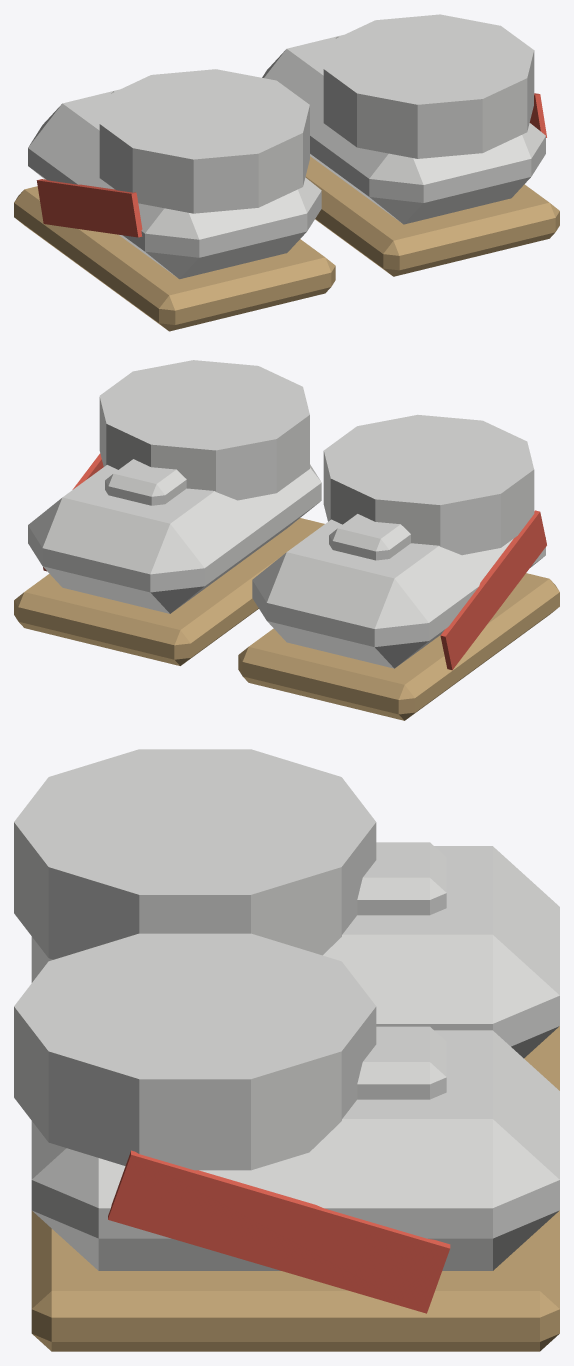
Rendered from shoes_pumba.glb.
3 renders of one model, top to bottom at view 1: azimuth 30°, elevation 25°; view 2: azimuth 150°, elevation 25°; view 3: azimuth 270°, elevation 25°, orthographic. The views are drawn at different scales.
Parts seen in each view (by area): view 1: LegL, LegR; view 2: LegL, LegR; view 3: LegR, LegL.
Part boxes in pixels (<box>): LegL: <box>14,69,335,331</box>; LegR: <box>262,14,559,276</box>; LegL: <box>238,414,559,720</box>; LegR: <box>14,360,324,665</box>; LegR: <box>14,933,559,1351</box>; LegL: <box>14,749,559,1090</box>.
Size of the model in its own units: 0.474 by 0.185 by 0.3255.
